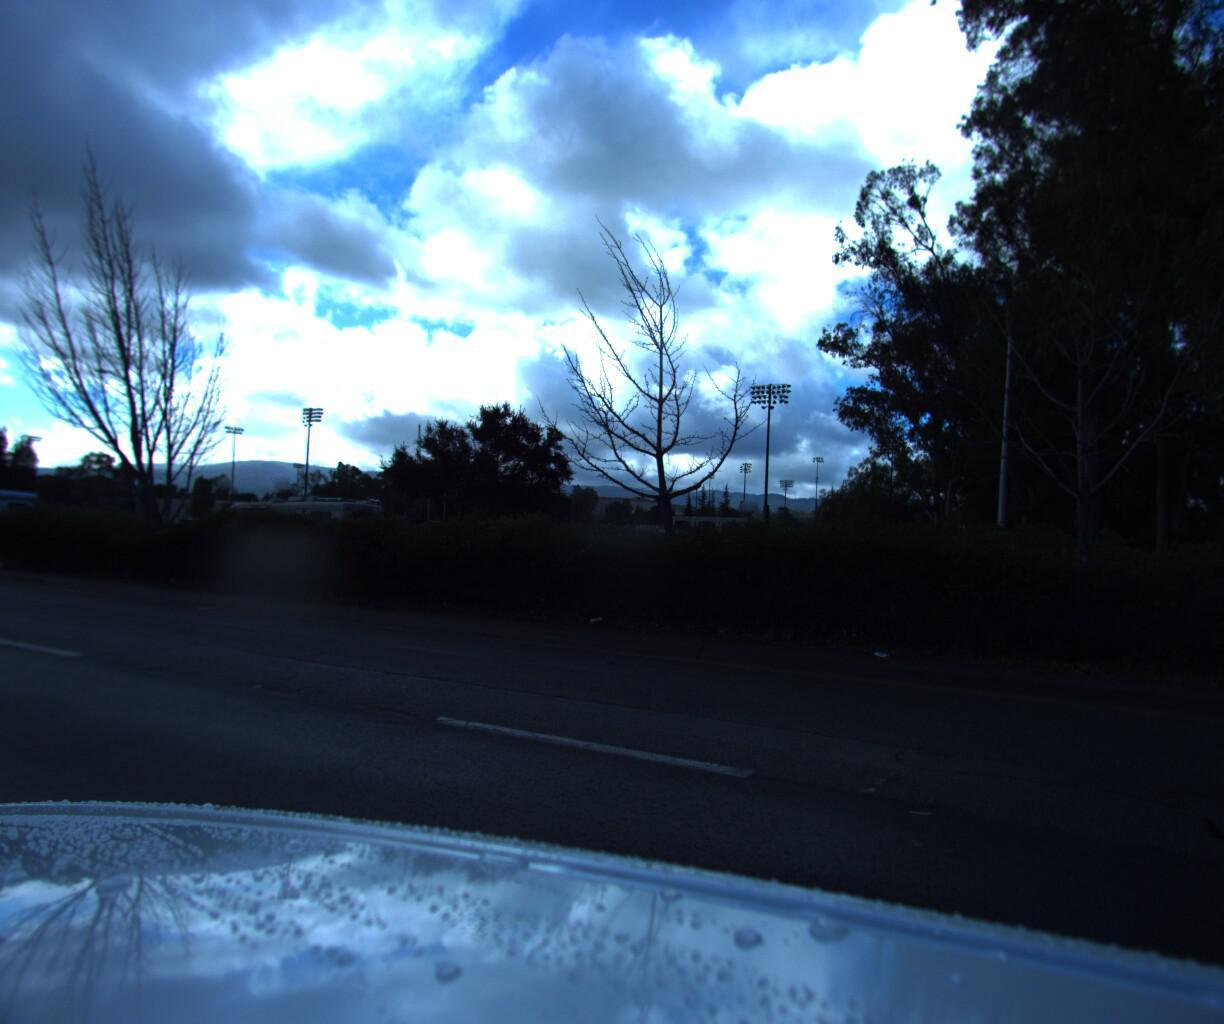other_vehicle: (198, 499, 391, 577), (0, 490, 34, 551)
